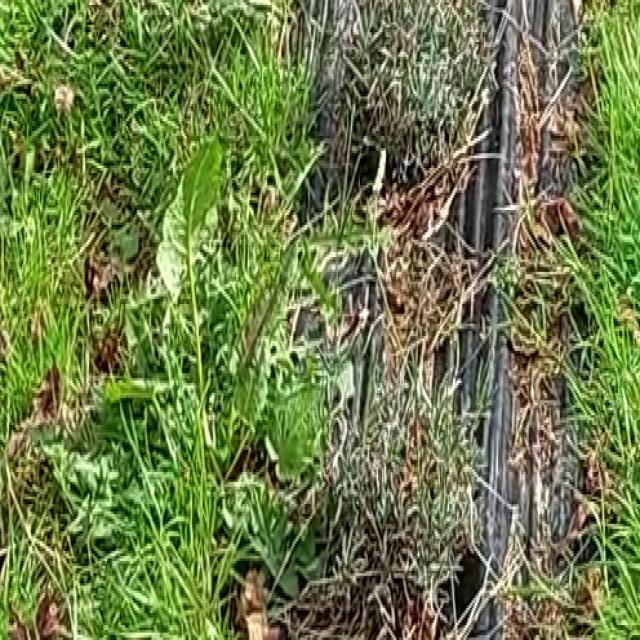organic waste: (107, 151, 301, 561)
